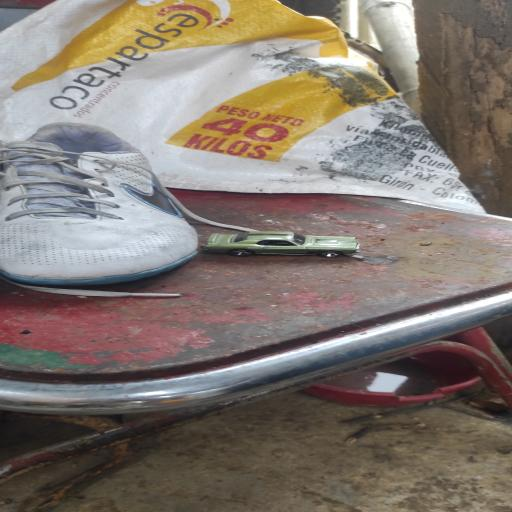Carrito: (203, 232, 359, 257)
